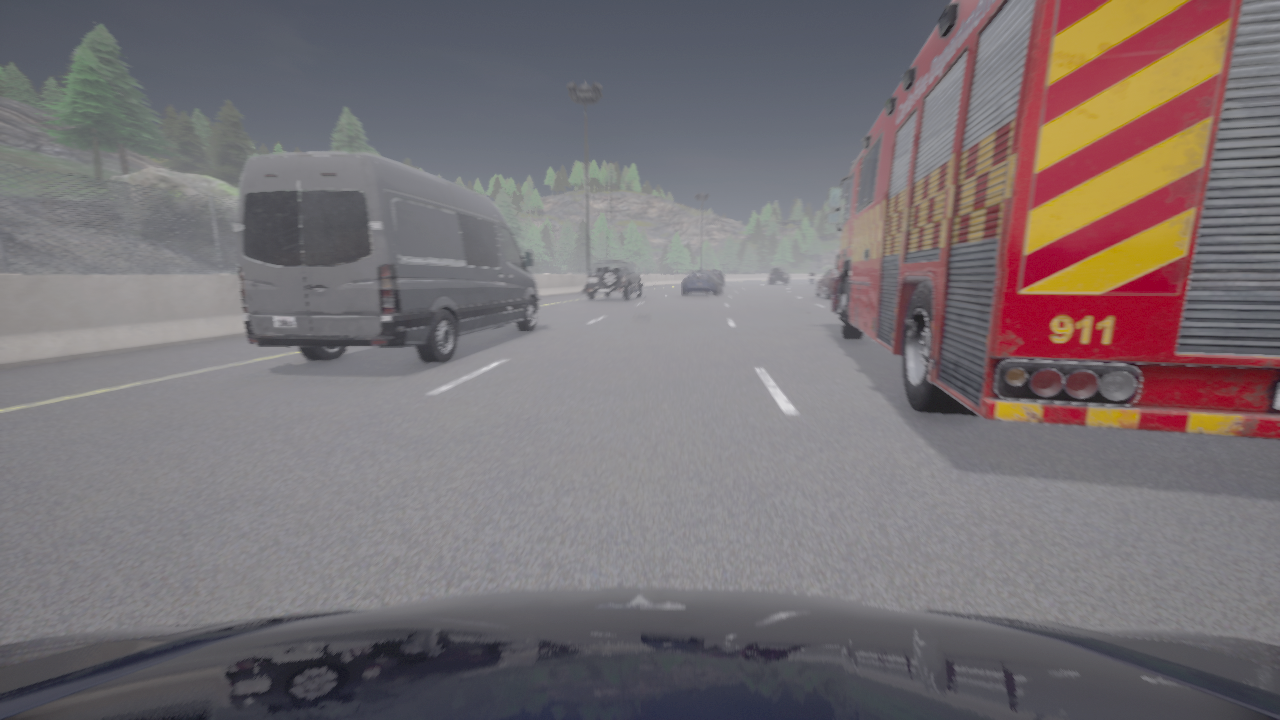cyclist: (826, 0, 1279, 440), (0, 588, 1279, 719), (233, 153, 539, 363), (584, 260, 643, 300), (682, 271, 721, 295), (816, 268, 838, 300), (769, 268, 790, 284), (711, 270, 724, 287), (810, 274, 815, 284)
